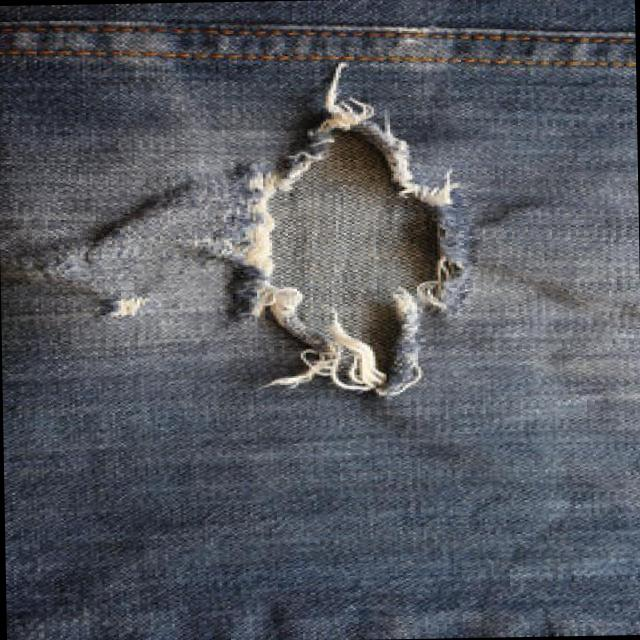hole: (240, 101, 463, 401), (103, 293, 151, 320)
seam: (0, 6, 635, 87)
